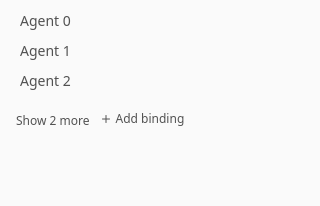
Test: AdapterCardBindings › collapses back when "Show less" is clicked
Click the button "Show 2 more": [53, 121] box x1=16 y1=113 x2=90 y2=129
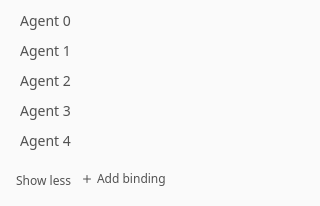
Click the button "Show less": [43, 181] box x1=16 y1=173 x2=71 y2=189
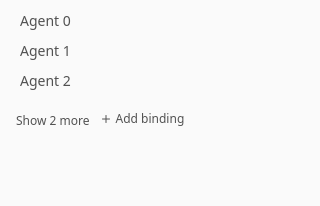
Check: the button "Agent 3" is gone
Check: the button "Show 2 more" is shown, box x1=16 y1=113 x2=90 y2=129
